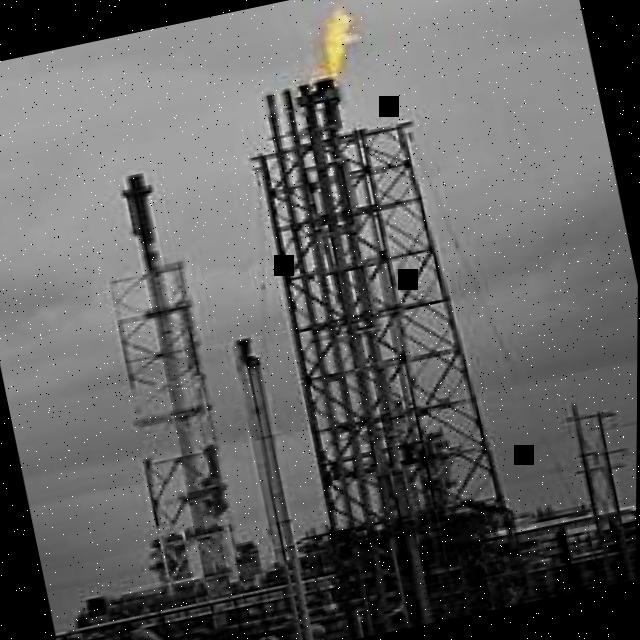fire: (322, 8, 359, 79)
